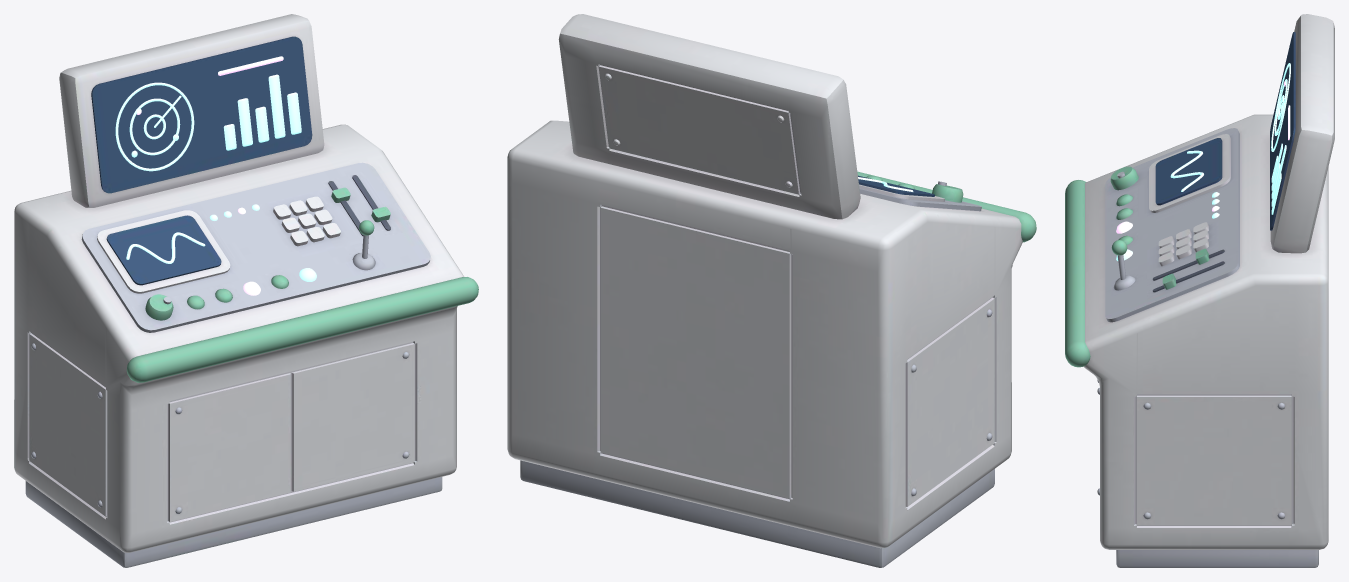
The model's file is consola.glb.
3 renders of one model, left to right at view 1: azimuth 30°, elevation 25°; view 2: azimuth 150°, elevation 25°; view 3: azimuth 270°, elevation 25°, orthographic. The views are drawn at different scales.
Parts seen in each view (by area): view 1: control-console_body; view 2: control-console_body; view 3: control-console_body.
Part boxes in pixels (x1=…): control-console_body: x1=14, y1=14, x2=478, y2=567; control-console_body: x1=507, y1=14, x2=1036, y2=567; control-console_body: x1=1065, y1=14, x2=1334, y2=567.
Bounding box in the file's own units: 1.24 × 1.42 × 0.8259.
Materials: 5 (1 with a texture image).
